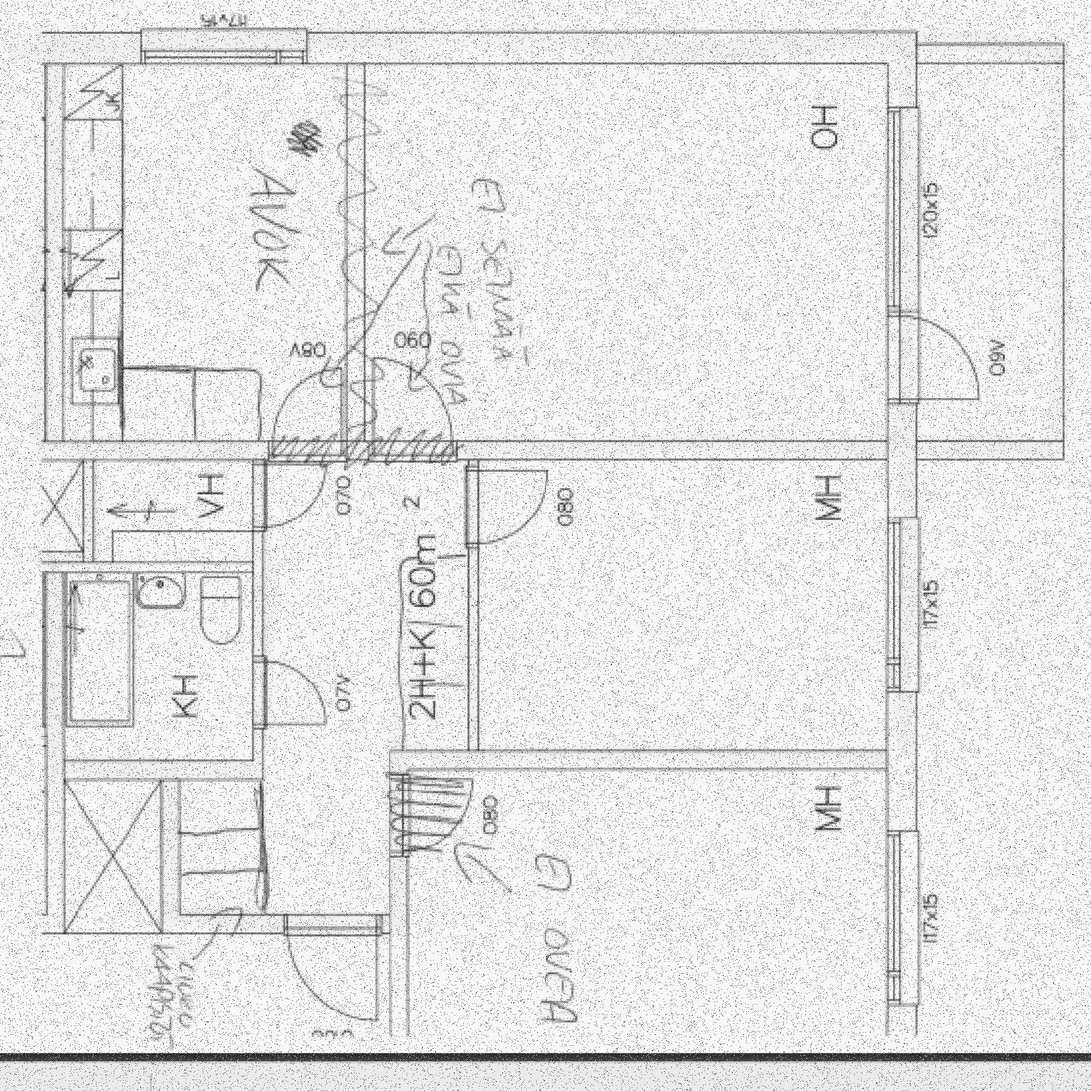wall: (46, 33, 917, 63), (888, 32, 917, 768), (389, 750, 917, 768), (468, 440, 917, 459), (45, 32, 63, 441), (46, 441, 94, 563), (160, 915, 408, 933), (46, 440, 263, 459), (45, 562, 63, 778), (390, 750, 408, 933), (161, 760, 180, 933), (468, 441, 478, 768), (917, 440, 1063, 459), (917, 45, 1062, 64), (46, 760, 180, 778), (253, 562, 264, 778), (63, 562, 263, 571), (180, 760, 264, 778), (253, 441, 264, 572)
